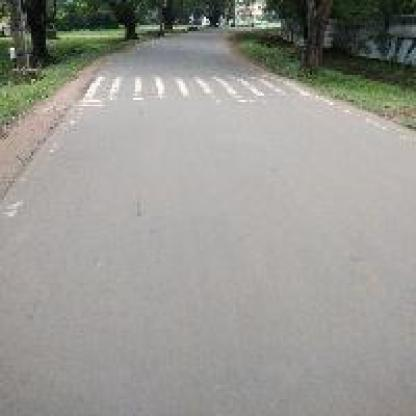Speed Bump: (83, 73, 300, 106)
